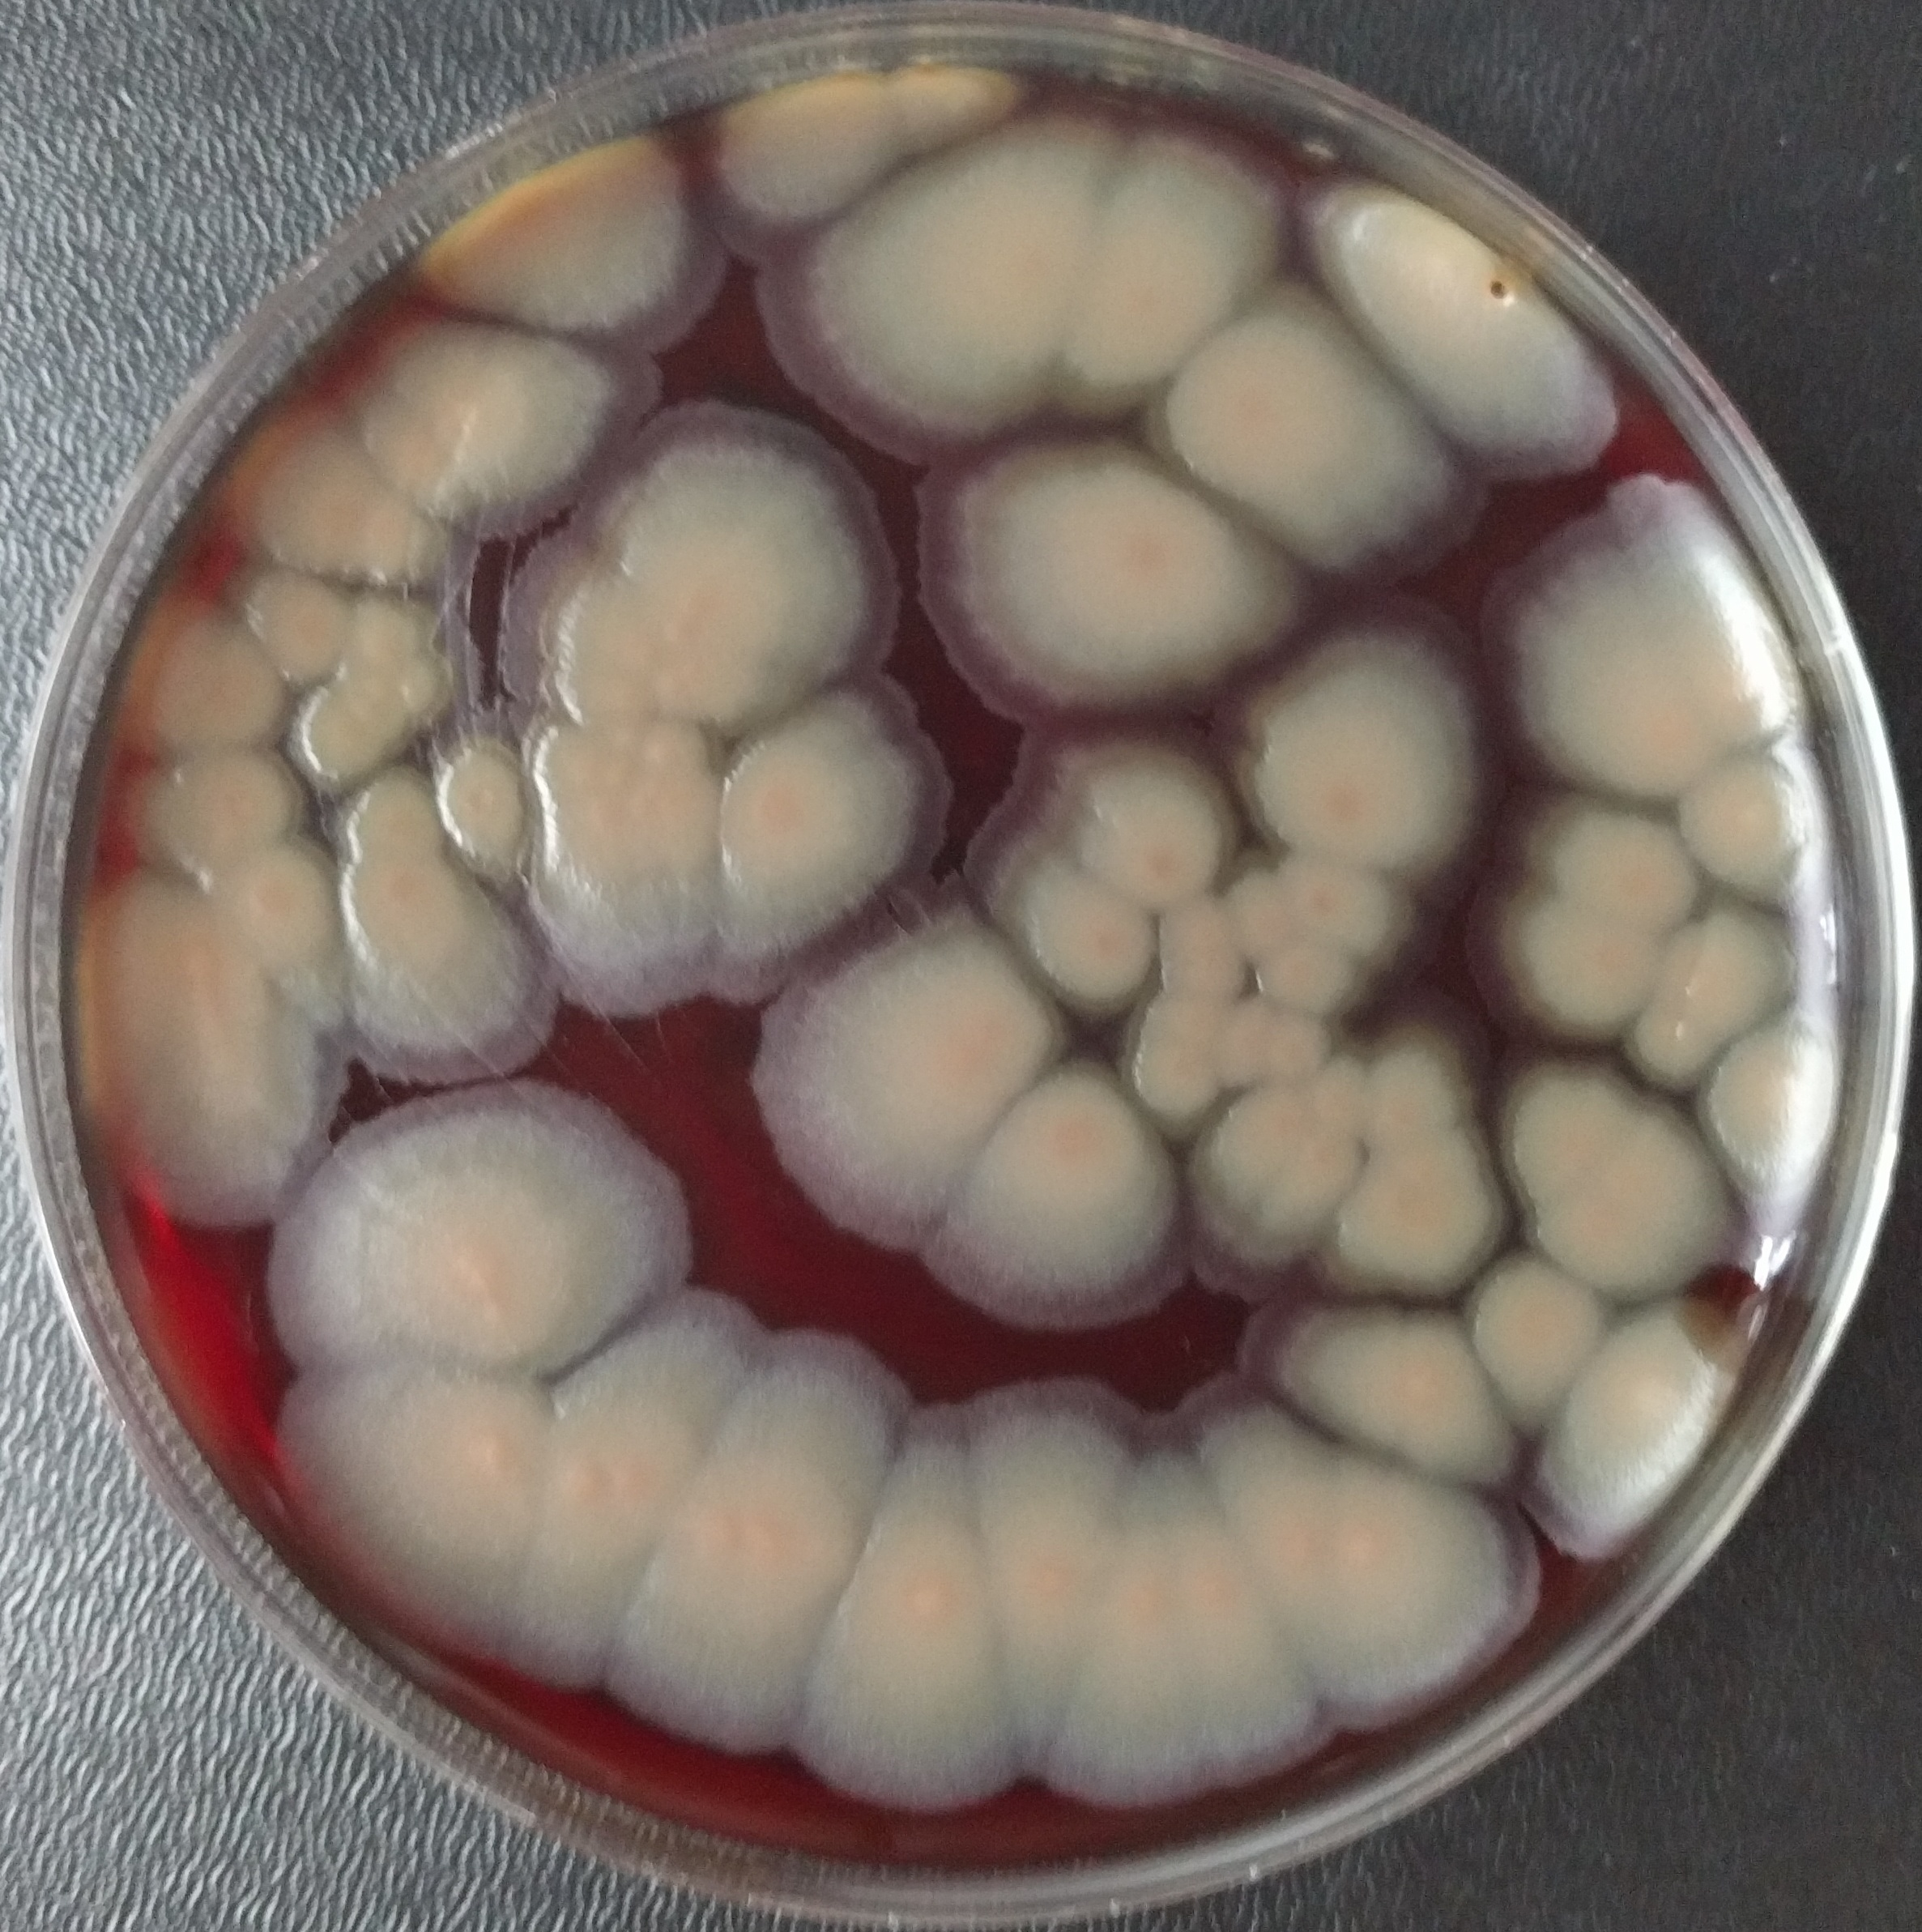sp04: (248, 1043, 711, 1404), (590, 1311, 915, 1781), (732, 114, 1170, 459), (1181, 1376, 1554, 1768), (484, 387, 910, 725), (1033, 1376, 1343, 1837), (905, 419, 1331, 728), (741, 890, 1086, 1265), (1461, 450, 1808, 820), (776, 1376, 1051, 1830), (480, 1283, 771, 1696), (1273, 155, 1635, 477), (236, 1339, 574, 1680), (1128, 274, 1478, 584), (69, 855, 345, 1233), (392, 106, 746, 371), (896, 1022, 1186, 1341), (704, 667, 954, 1036), (956, 1371, 1155, 1809), (1193, 607, 1491, 873), (336, 746, 554, 1101), (313, 338, 678, 544), (1061, 123, 1299, 431), (1229, 1283, 1554, 1504), (525, 699, 730, 1036), (1489, 1054, 1771, 1300), (713, 55, 1038, 264), (989, 699, 1251, 917), (1530, 1299, 1742, 1564), (1177, 1035, 1387, 1300), (1496, 767, 1718, 957), (1621, 903, 1830, 1101), (956, 818, 1149, 1024), (104, 586, 310, 776), (1325, 1110, 1522, 1300), (1454, 867, 1651, 1049), (1688, 999, 1855, 1212), (104, 739, 310, 897), (208, 827, 363, 1029), (1461, 1263, 1626, 1425), (421, 714, 549, 917), (204, 551, 389, 688), (1677, 735, 1839, 892), (1118, 978, 1234, 1128), (1361, 1012, 1482, 1153), (289, 658, 401, 808), (1141, 883, 1262, 1008), (1250, 922, 1399, 1017), (1313, 862, 1438, 957), (1220, 846, 1327, 952)
